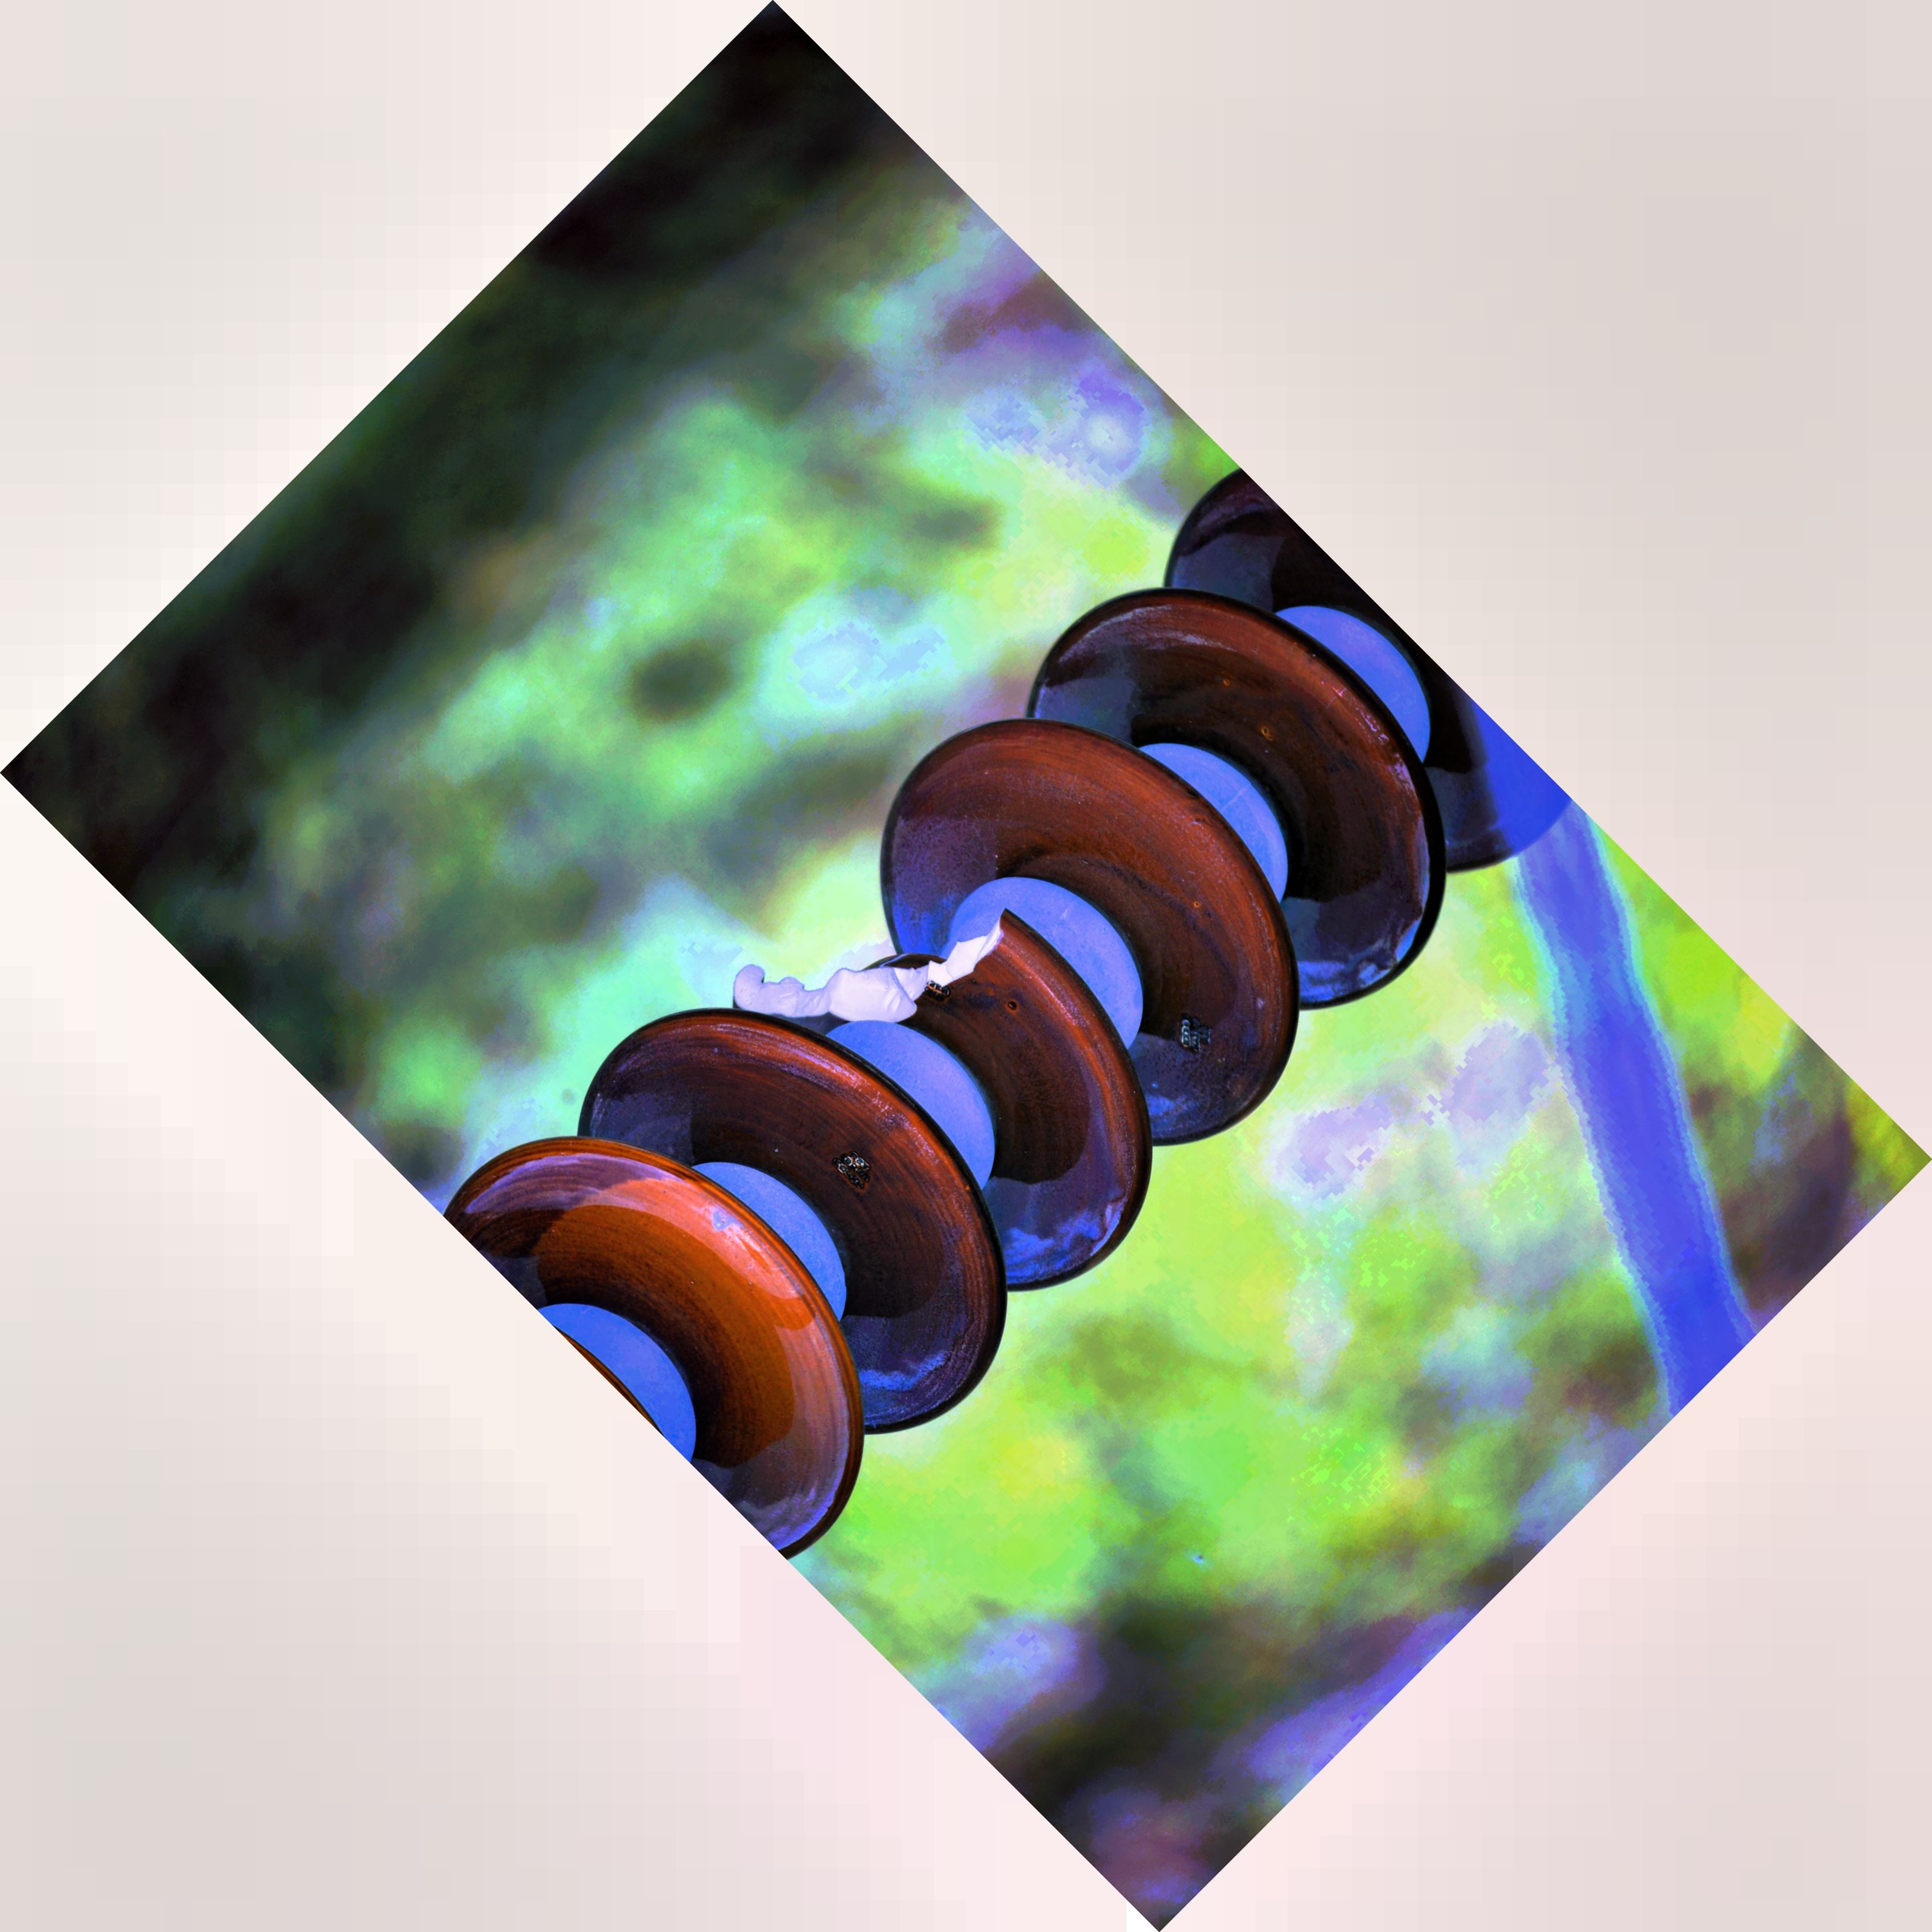insulator breakage: (692, 899, 1182, 1300)
